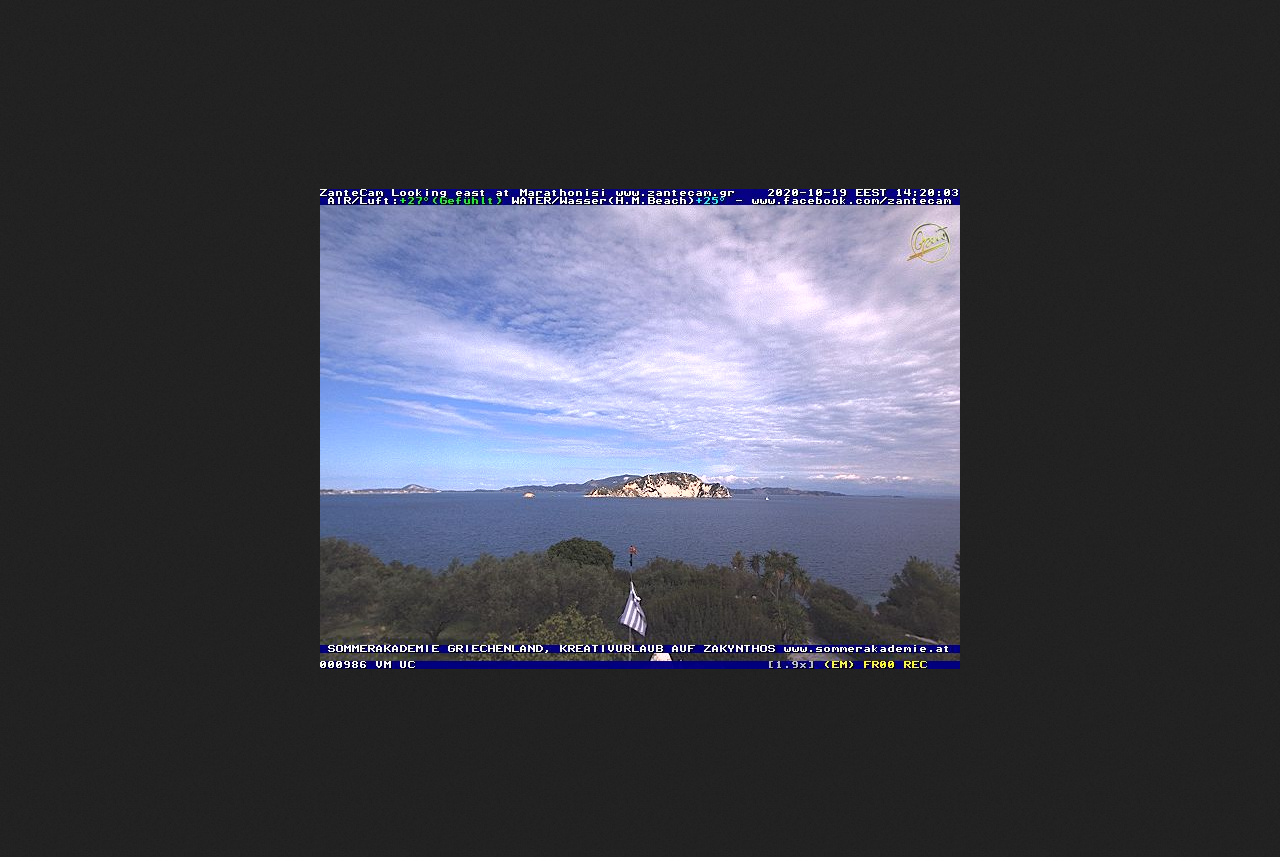no: (618, 575, 654, 640)
